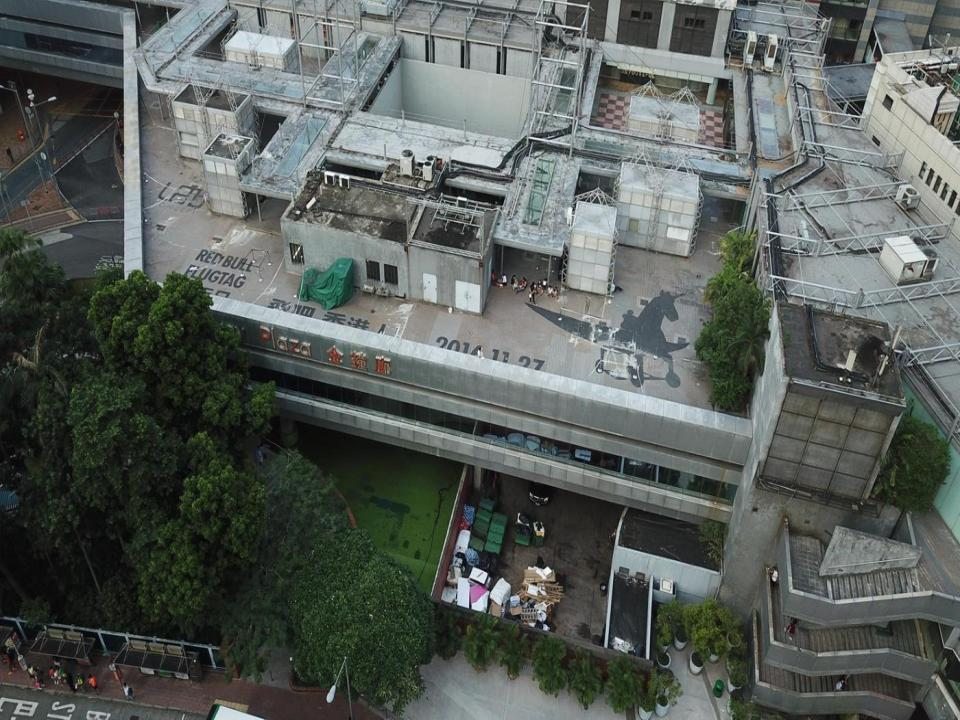car: (528, 460, 552, 505)
